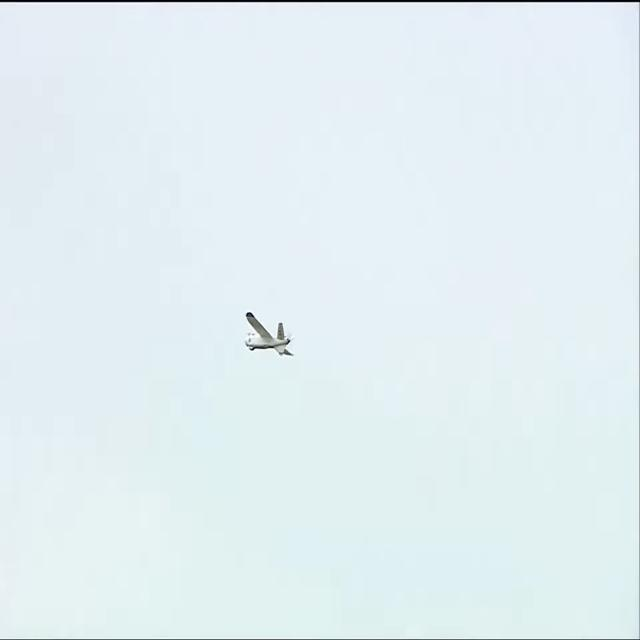iha: (244, 310, 297, 359)
